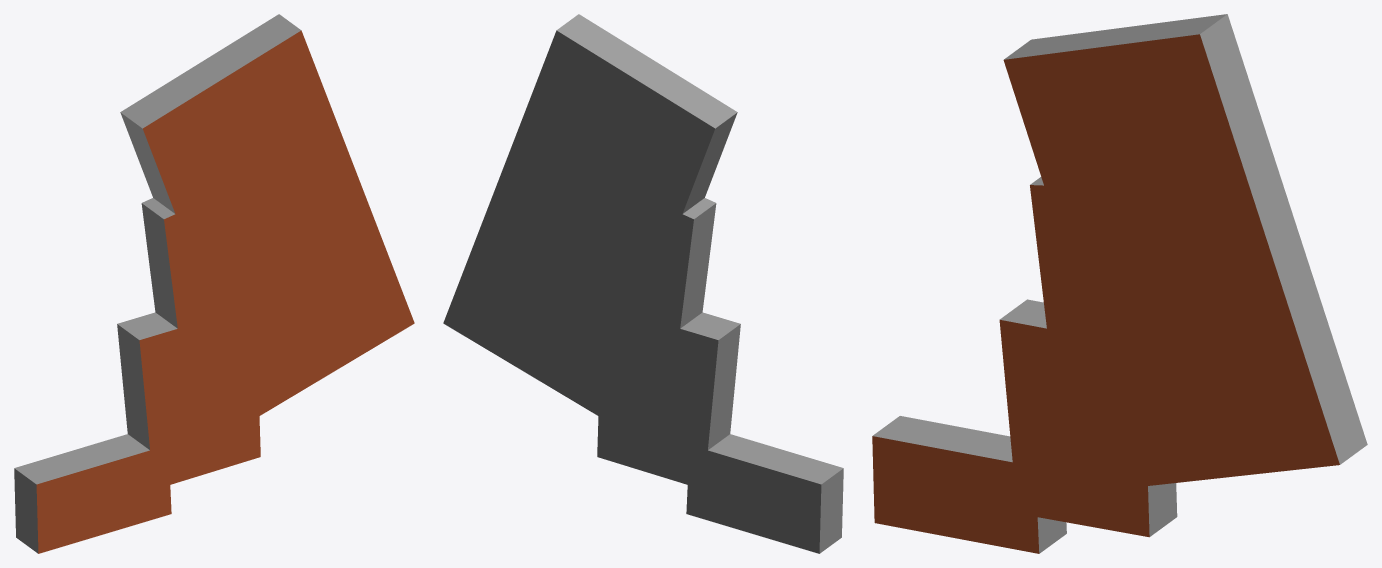
Rendered from construction_4838_assumed_A_Casa_h6m.obj.
The picture shows the model from 3 angles, left to right: view 1: azimuth 30°, elevation 25°; view 2: azimuth 150°, elevation 25°; view 3: azimuth 330°, elevation 25°; orthographic projection. The views are drawn at different scales.
Parts seen in each view (by area): view 1: construction_4838_assumed_A_Casa; view 2: construction_4838_assumed_A_Casa; view 3: construction_4838_assumed_A_Casa.
Part boxes in pixels (box(x1,y1,x2,y2)): construction_4838_assumed_A_Casa: box(14, 14, 414, 553); construction_4838_assumed_A_Casa: box(443, 14, 843, 553); construction_4838_assumed_A_Casa: box(872, 14, 1367, 553).
Bounding box in the file's own units: 58.51 × 67.91 × 6.
